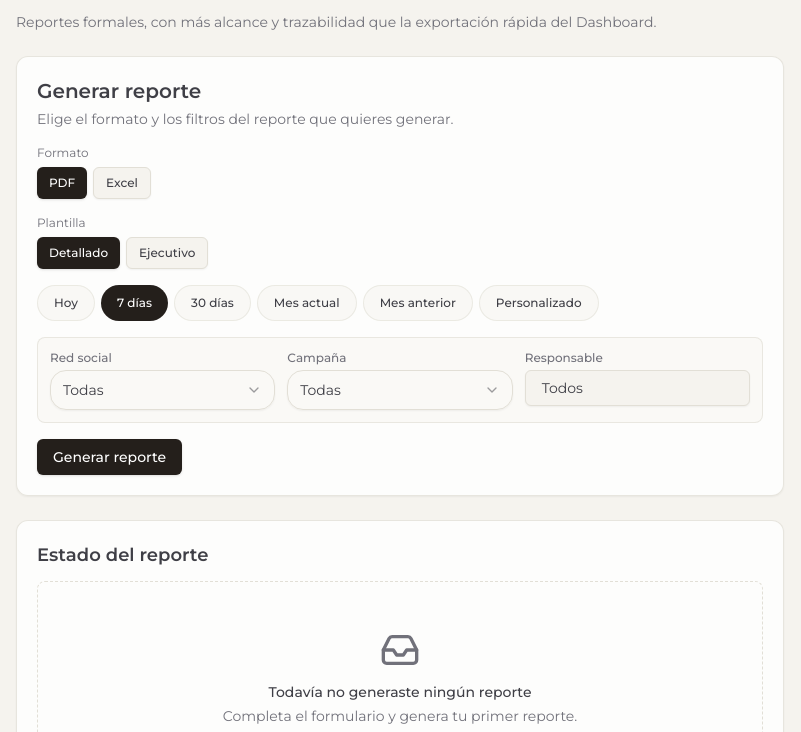
Scenario: ReportesPage — generar reporte › por defecto (PDF, rango 7d) manda { tipo: 'pdf', parametros: { rango: '7d', plantilla: 'detallado' } }
Expected: the text "Todavía no generaste ningún reporte" is shown, [268,683,531,701]
Click the button "Generar reporte" at (110, 457), box [37,439,182,475]
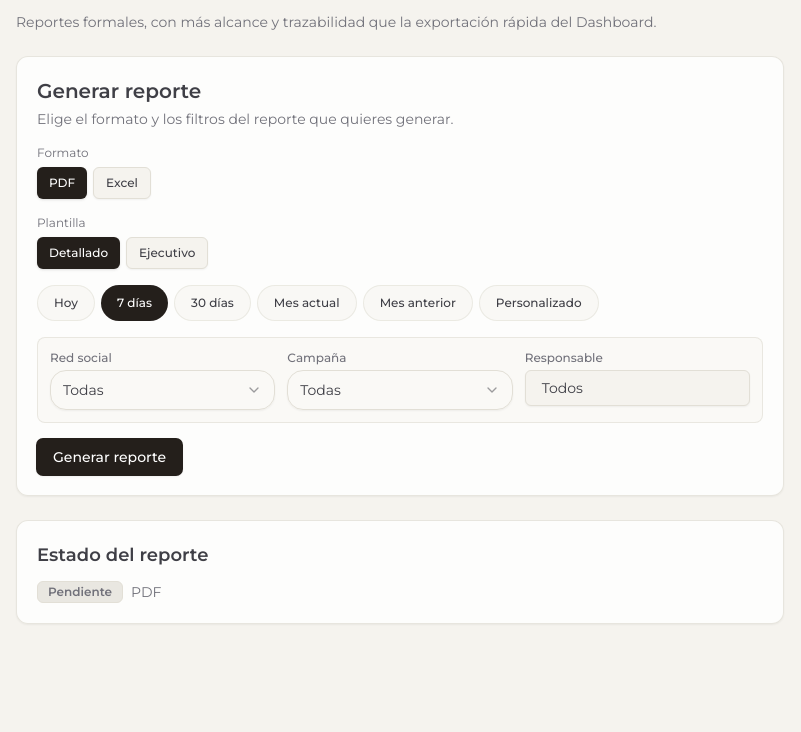
Expected: the text "Pendiente" is shown, [37,581,123,603]
